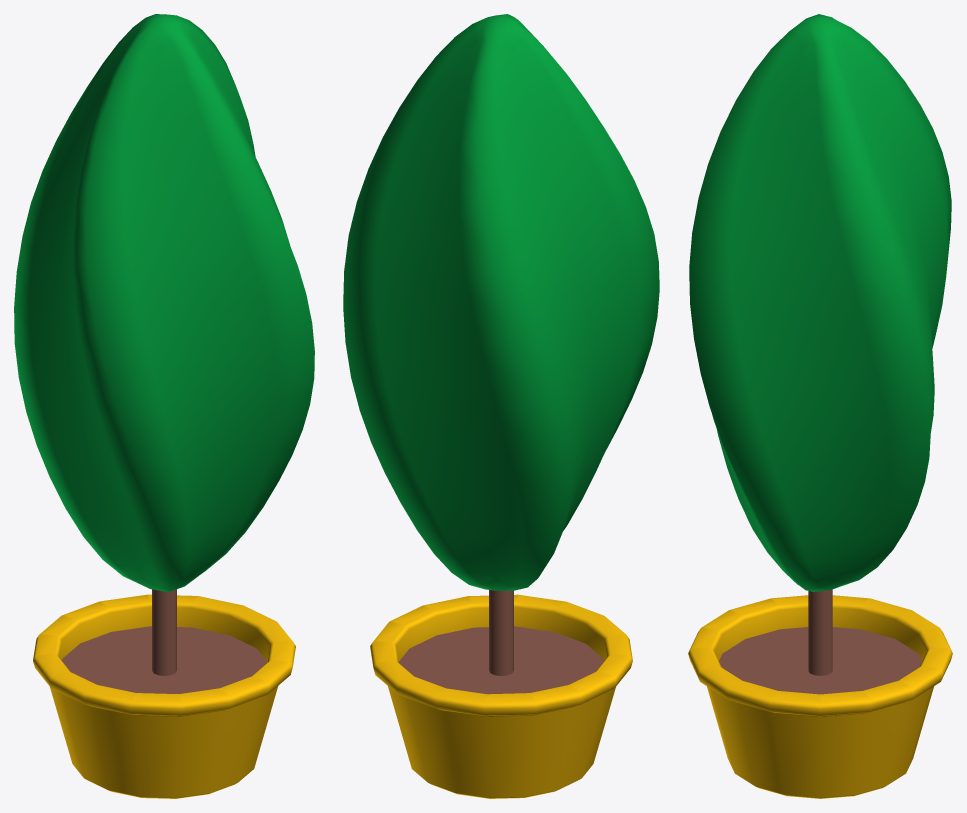
The model's file is City_6_Tree_1.glb.
3 renders of one model, left to right at view 1: azimuth 30°, elevation 25°; view 2: azimuth 150°, elevation 25°; view 3: azimuth 270°, elevation 25°, orthographic.
Visible parts, largest first — view 1: City_6_Tree_1; view 2: City_6_Tree_1; view 3: City_6_Tree_1.
Boxes of the visible parts, x1,y1,x2,y2 form: City_6_Tree_1: (14, 14, 314, 798); City_6_Tree_1: (343, 14, 659, 798); City_6_Tree_1: (688, 14, 952, 798).
Size of the model in its own units: 0.9075 by 2.81 by 0.9075.
1 material, 1 textured.
